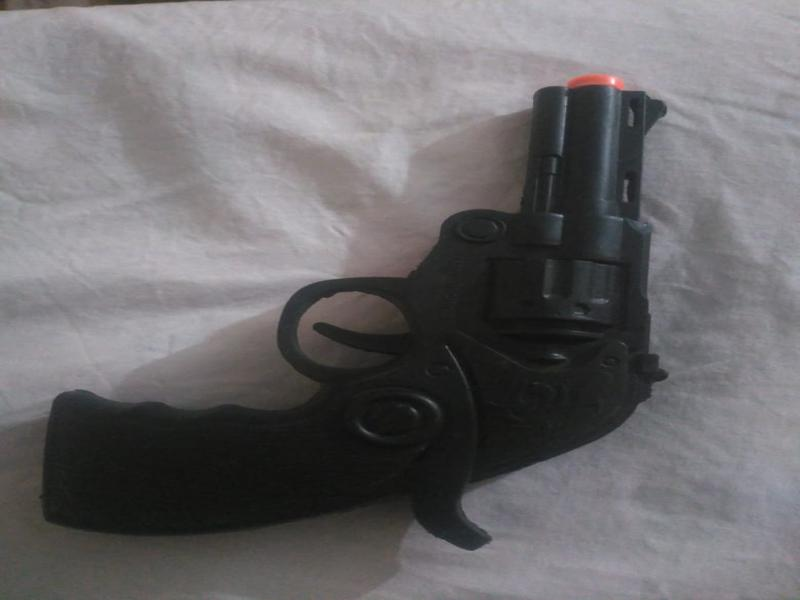gun: (37, 56, 687, 588)
